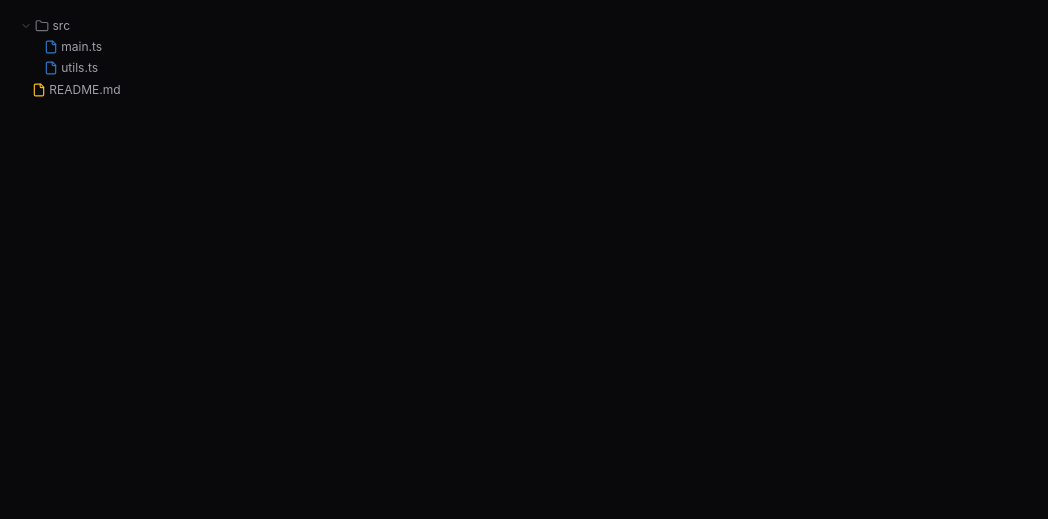
it: FileTree › shows context menu on right-click of a file
Right-click the button "README.md" at (85, 89), box [12,79,1036,100]
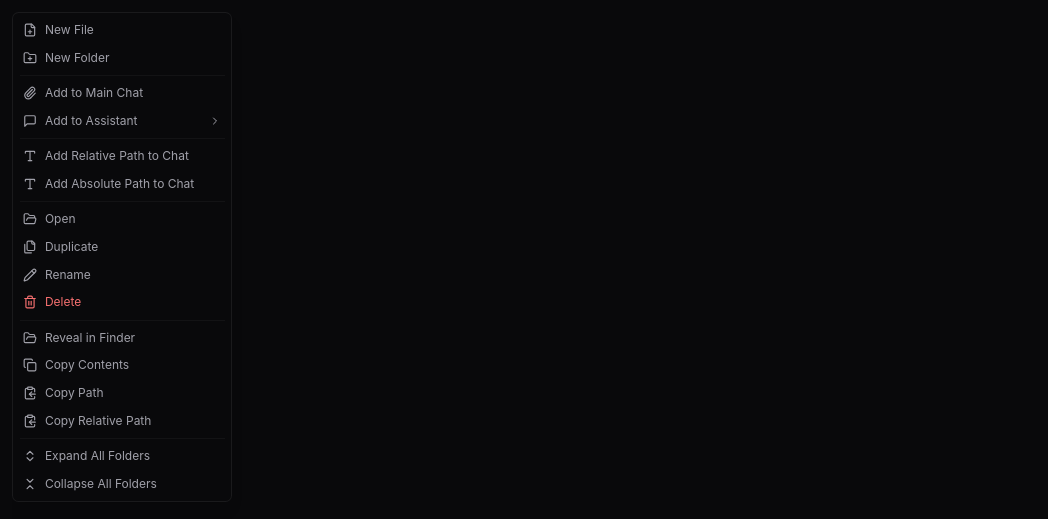
Check: the button "Open" is shown, box [13,205,231,233]
Check: the button "Rename" is shown, box [13,261,231,289]
Check: the button "Delete" is shown, box [13,288,231,316]
